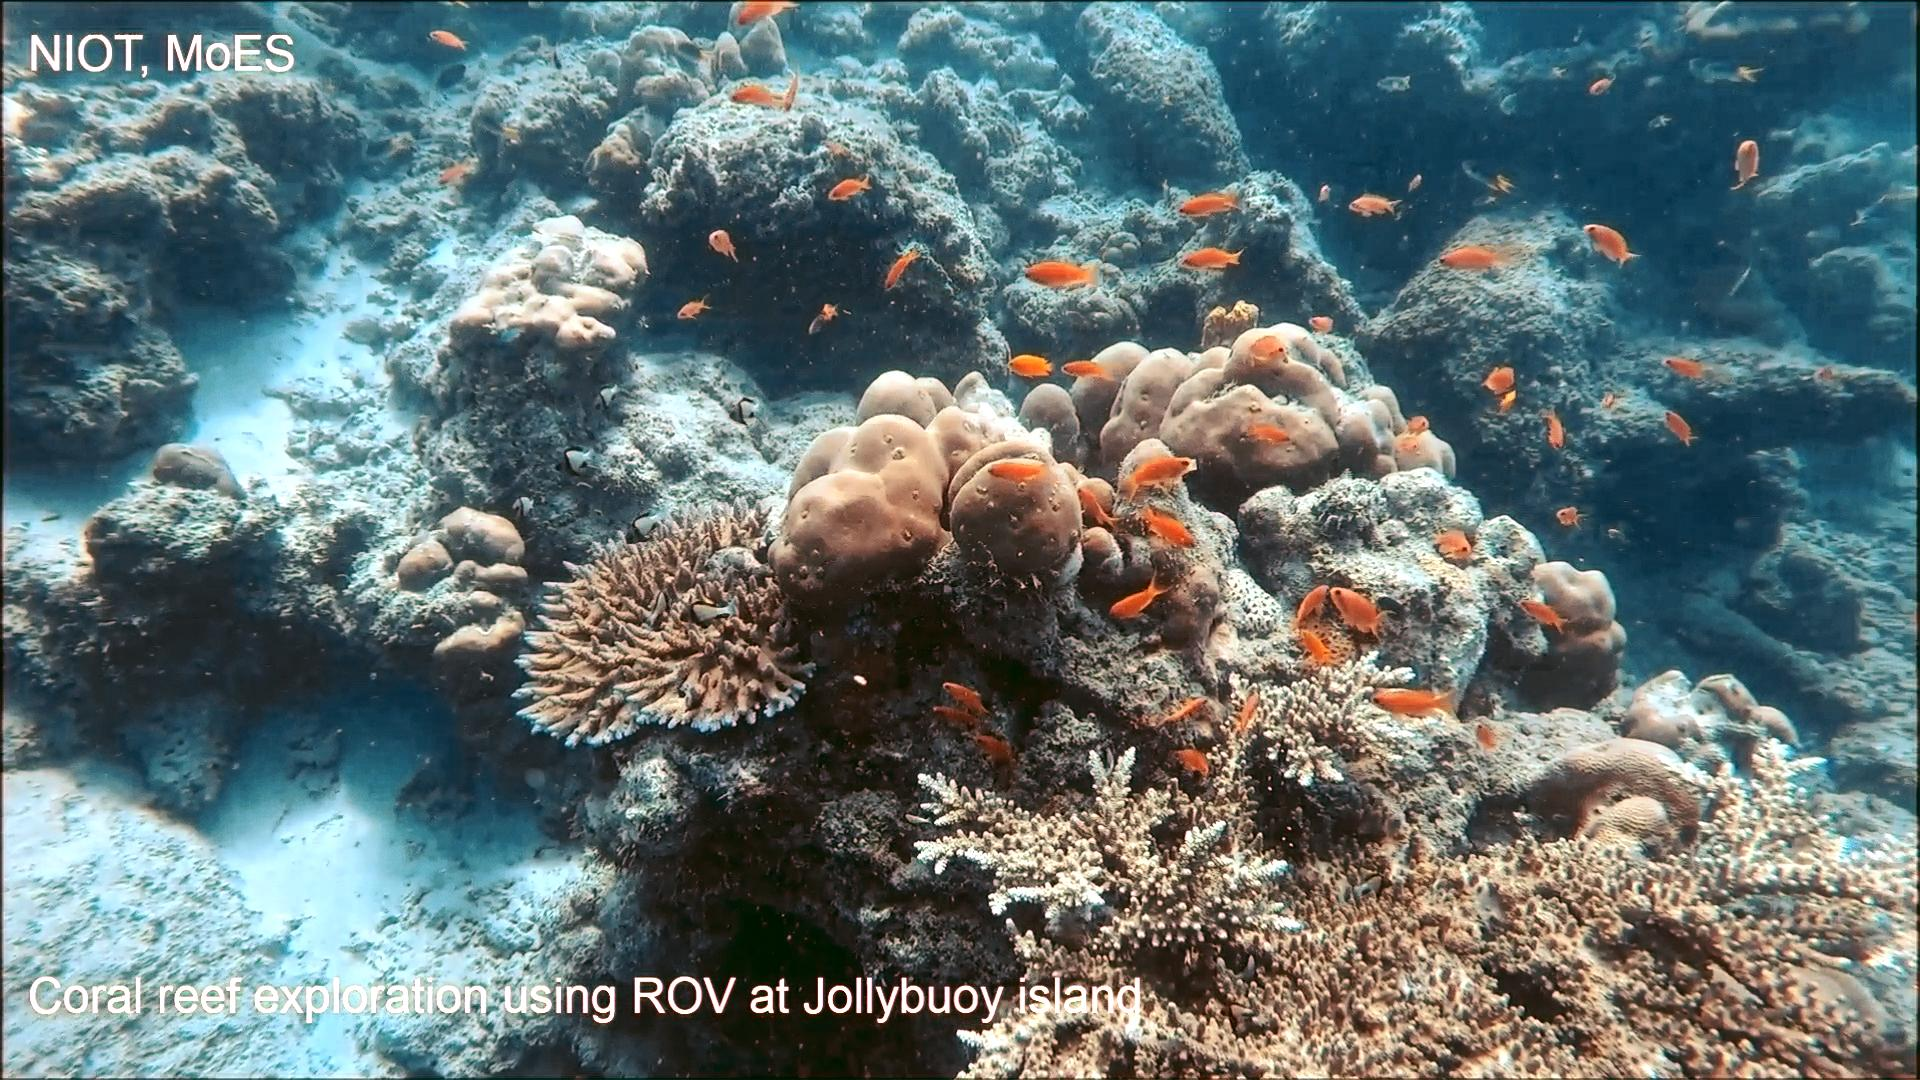Porites-Porites pukoensis: (766, 360, 1089, 618), (1056, 316, 1461, 497)
